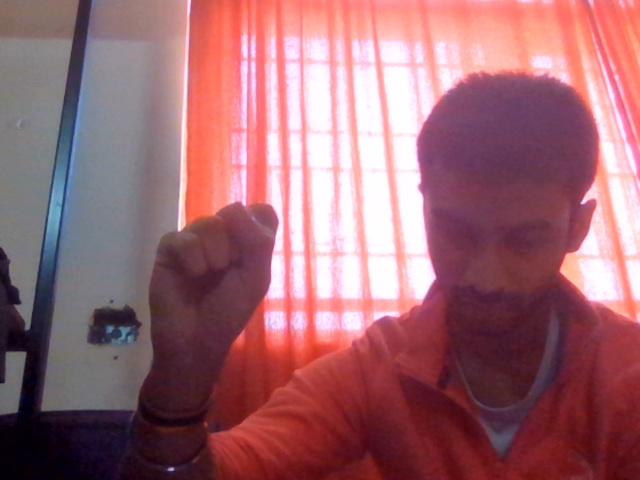S: (93, 129, 308, 408)
